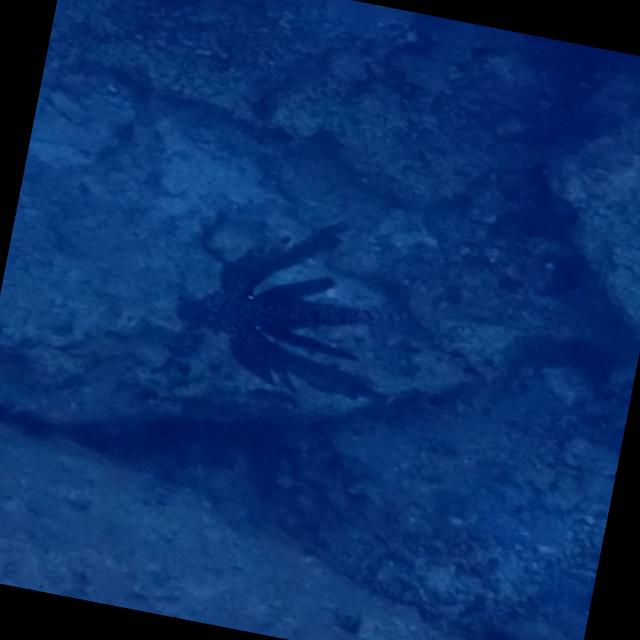Aslan Baligi: (162, 194, 420, 413)
